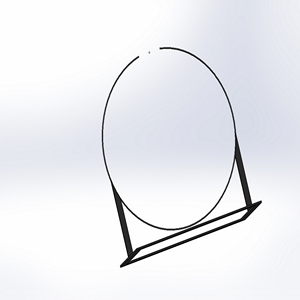circle: (99, 44, 264, 267)
